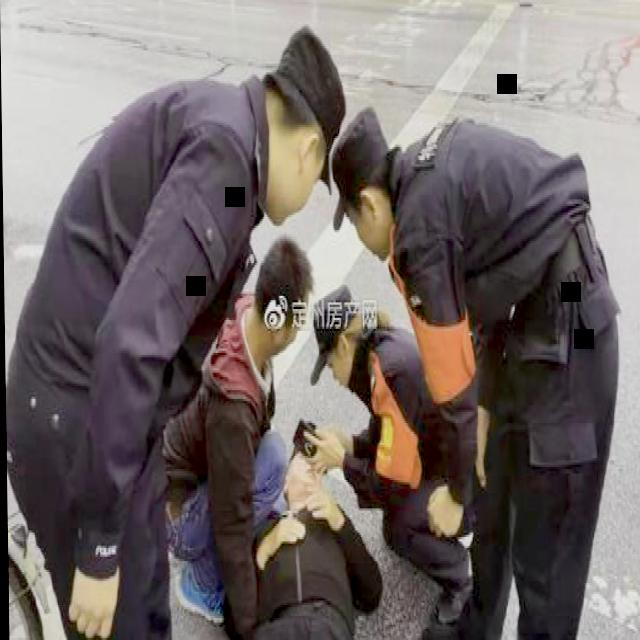Fall-Detected: (229, 401, 398, 640)
